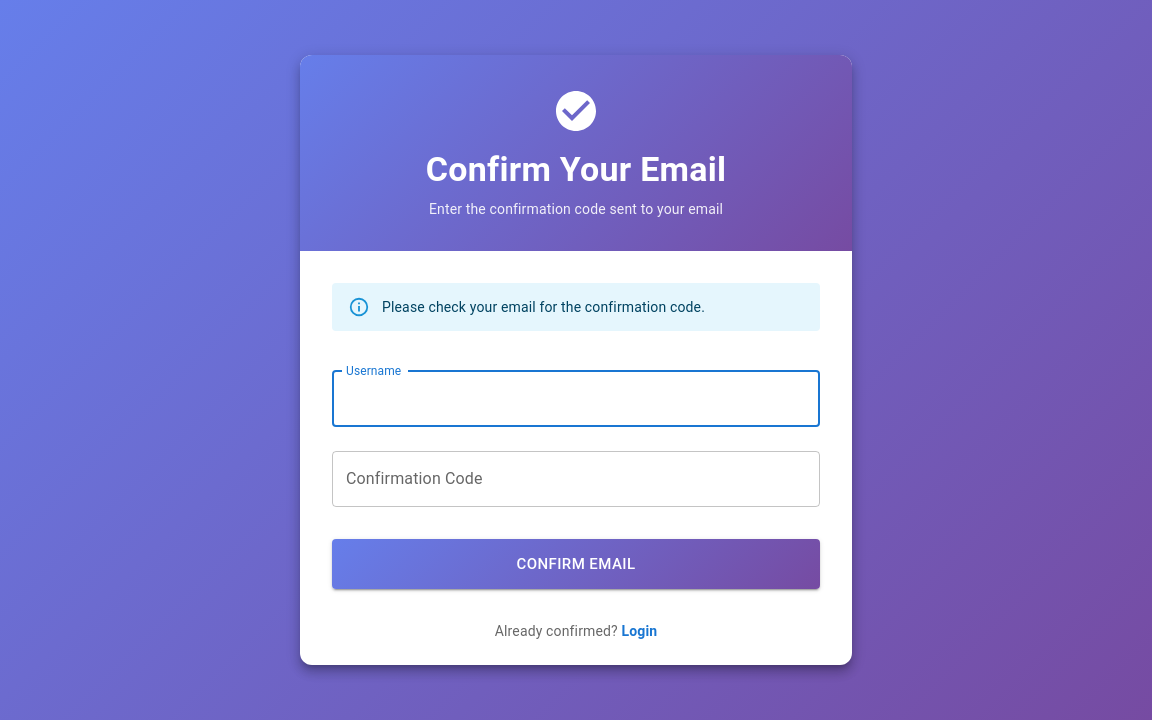
Test case: ConfirmRegistration Component › shows validation errors when submitting empty fields
Click the button "Confirm Email" at [576, 564], box left=332, top=539, right=820, bottom=589
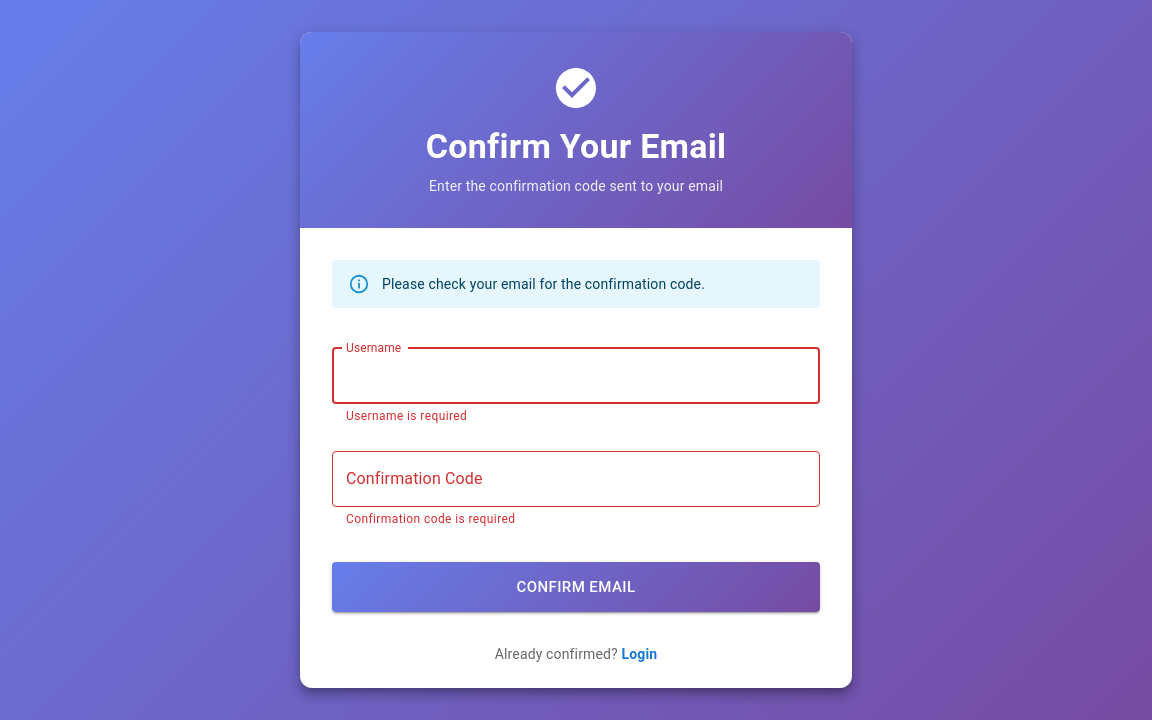
expect the text "Username is required" is shown: met, box left=346, top=409, right=467, bottom=423
expect the text "Confirmation code is required" is shown: met, box left=346, top=512, right=516, bottom=526
